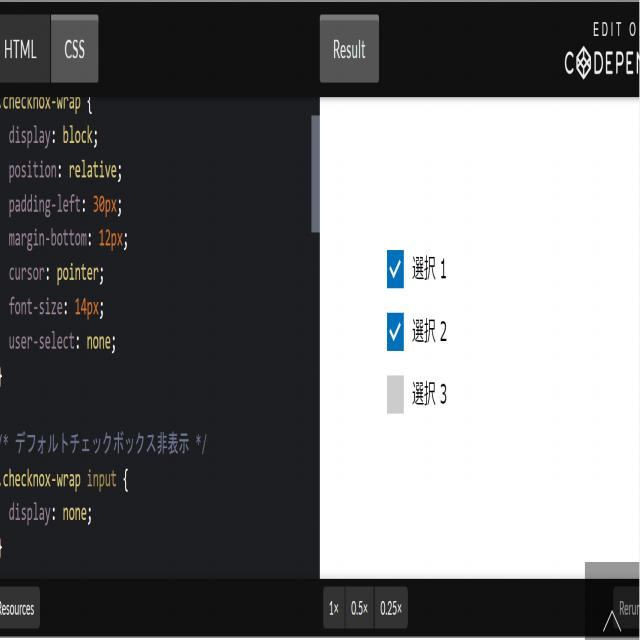checkbox: (386, 310, 406, 350), (386, 246, 404, 288)
